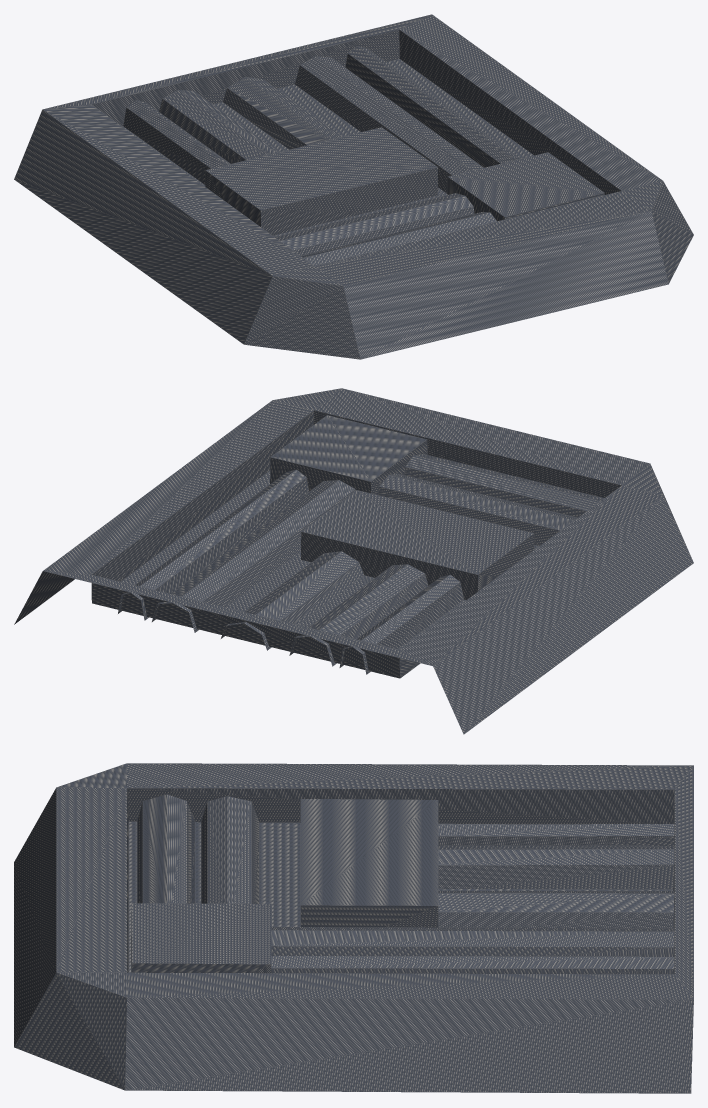
Rendered from Machinery-AirConA.fbx.
3 renders of one model, top to bottom at view 1: azimuth 30°, elevation 25°; view 2: azimuth 150°, elevation 25°; view 3: azimuth 270°, elevation 25°, orthographic. The views are drawn at different scales.
Parts seen in each view (by area): view 1: north:polySurface8660; view 2: north:polySurface8660; view 3: north:polySurface8660.
Boxes of the visible parts, x1,y1,x2,y2 form: north:polySurface8660: (14, 14, 693, 359); north:polySurface8660: (14, 388, 693, 734); north:polySurface8660: (14, 763, 693, 1093).
Bounding box in the file's own units: 1.69 × 0.2322 × 1.8.
